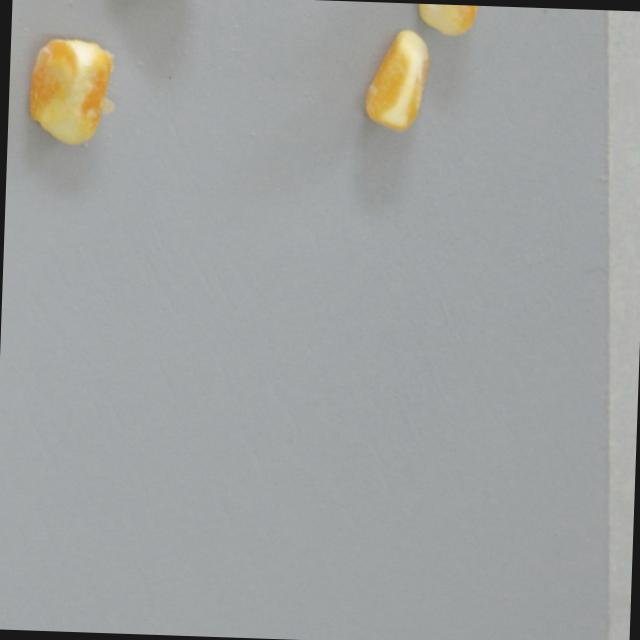pelicula: (27, 38, 114, 147), (362, 29, 431, 134), (416, 3, 482, 36)
